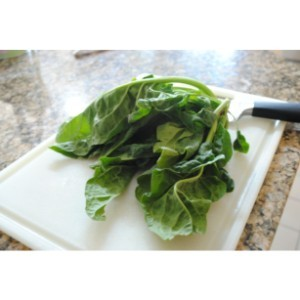spinach_brain food: (65, 65, 236, 225)
